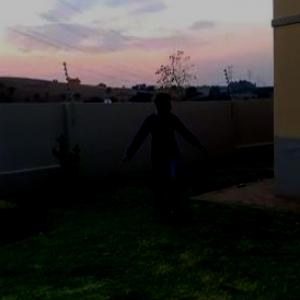land: (116, 95, 217, 232)
